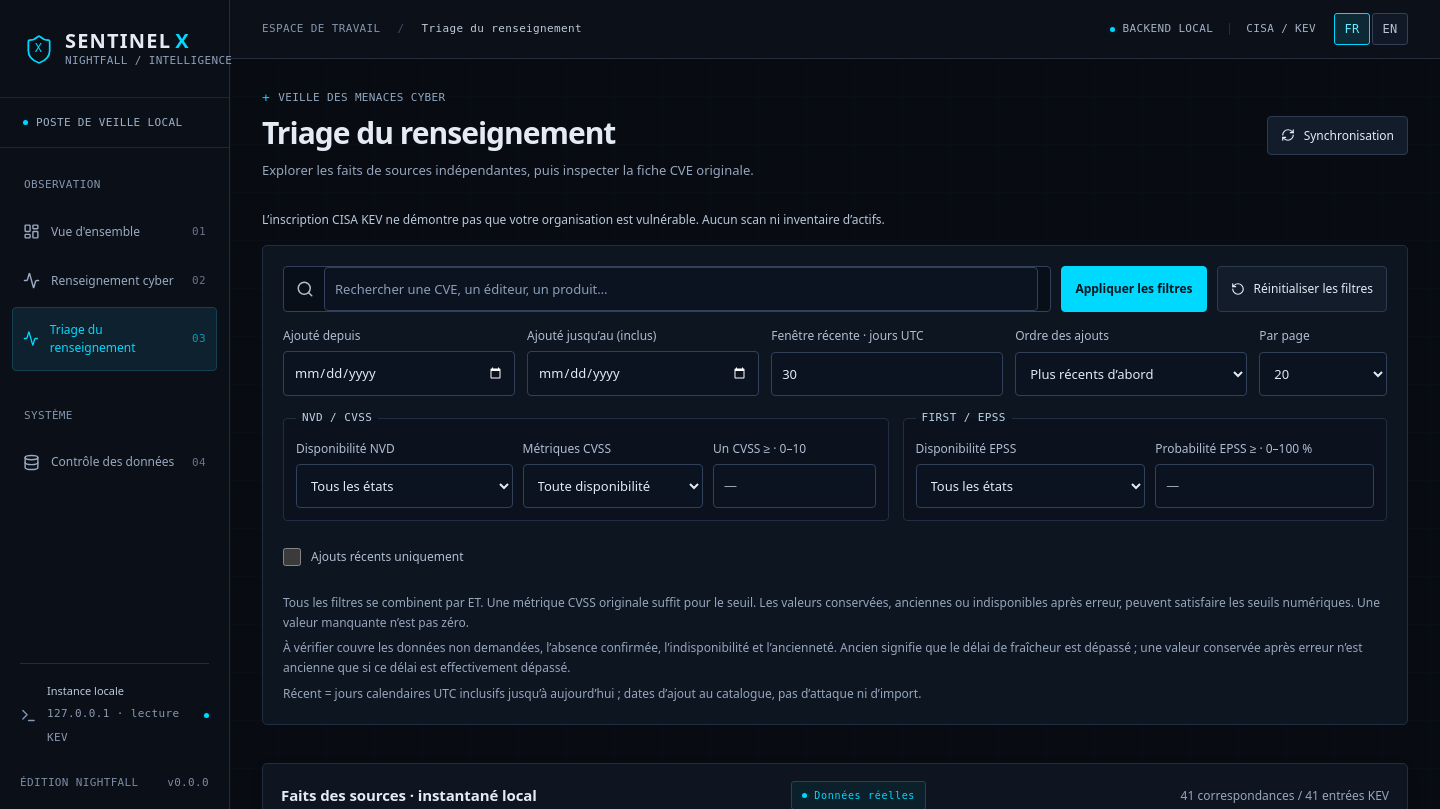
Scenario: displays retained stale/unavailable threshold matches and every CVSS metric without using percentile as probability
Click the button with test id "language-en" at (1390, 29), box [1372,13,1408,45]
(page scrolled)
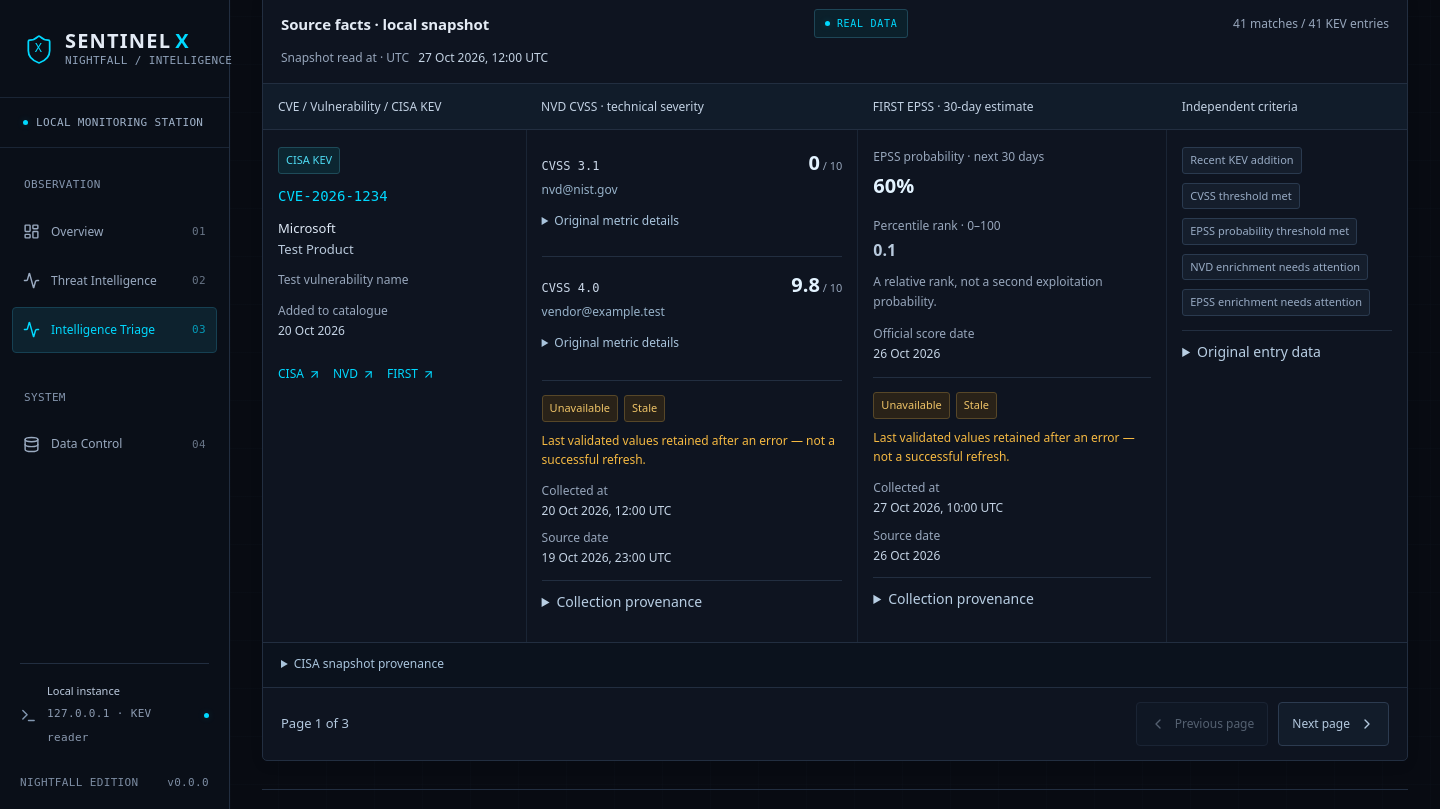
Expected: the text "Last validated values retained" is shown 2 times, [542,430,842,469]; [873,428,1151,466]
Now the element with test id "triage-epss-state" shows "Unavailable", box [881,397,942,412]
Now the element with test id "triage-epss-state" shows "Stale", box [964,397,989,412]
